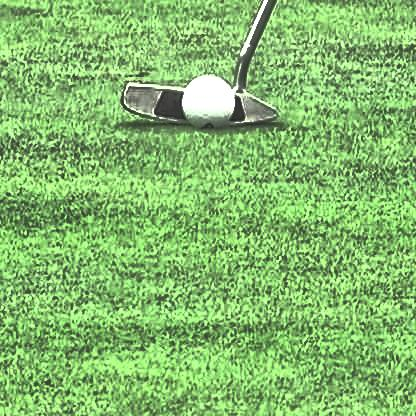golfball: (180, 70, 234, 126)
